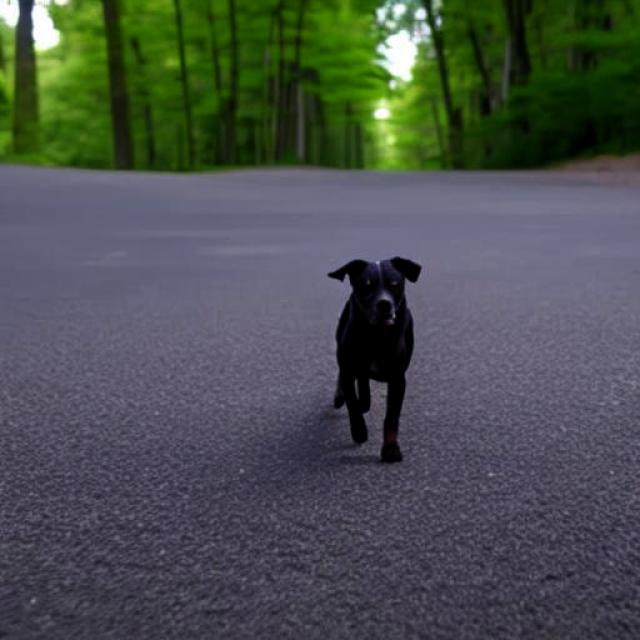Dog: (328, 255, 421, 462)
